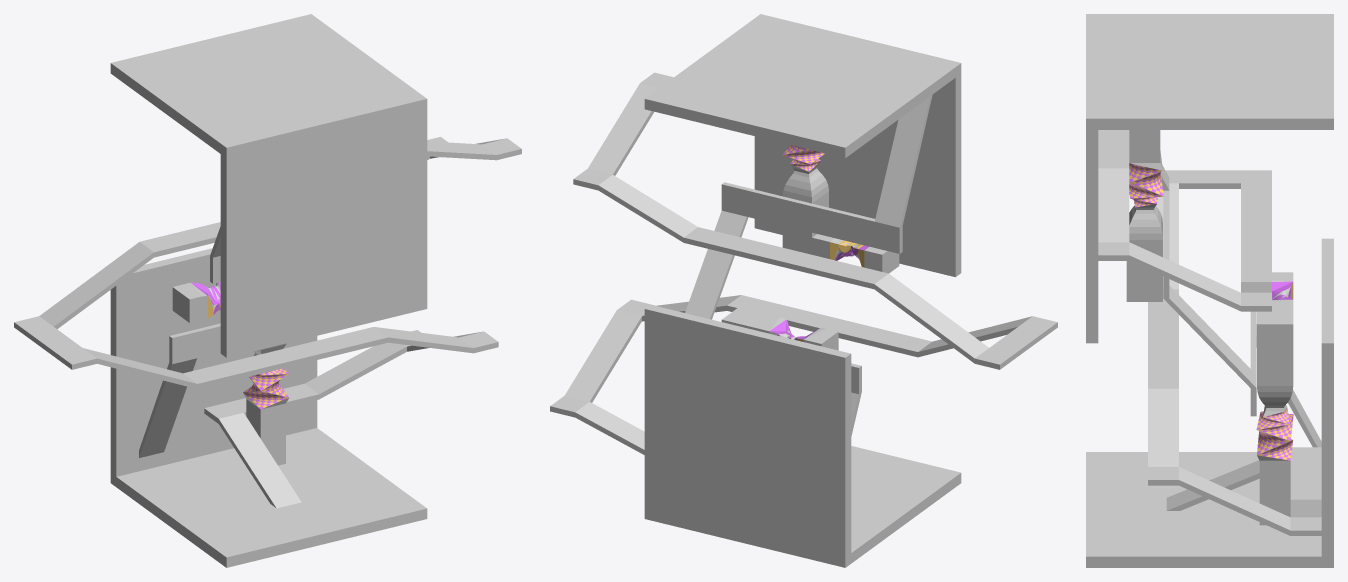
Rendered from CORTILE.dae.
The picture shows the model from 3 angles, left to right: view 1: azimuth 30°, elevation 25°; view 2: azimuth 150°, elevation 25°; view 3: azimuth 270°, elevation 25°; orthographic projection. The views are drawn at different scales.
Parts seen in each view (by area): view 1: Cube.001; view 2: Cube.001; view 3: Cube.001.
Part boxes in pixels (x1=…): Cube.001: x1=14, y1=14, x2=521, y2=567; Cube.001: x1=550, y1=14, x2=1057, y2=567; Cube.001: x1=1086, y1=14, x2=1333, y2=567.
Size of the model in its own units: 170 by 80 by 160.
